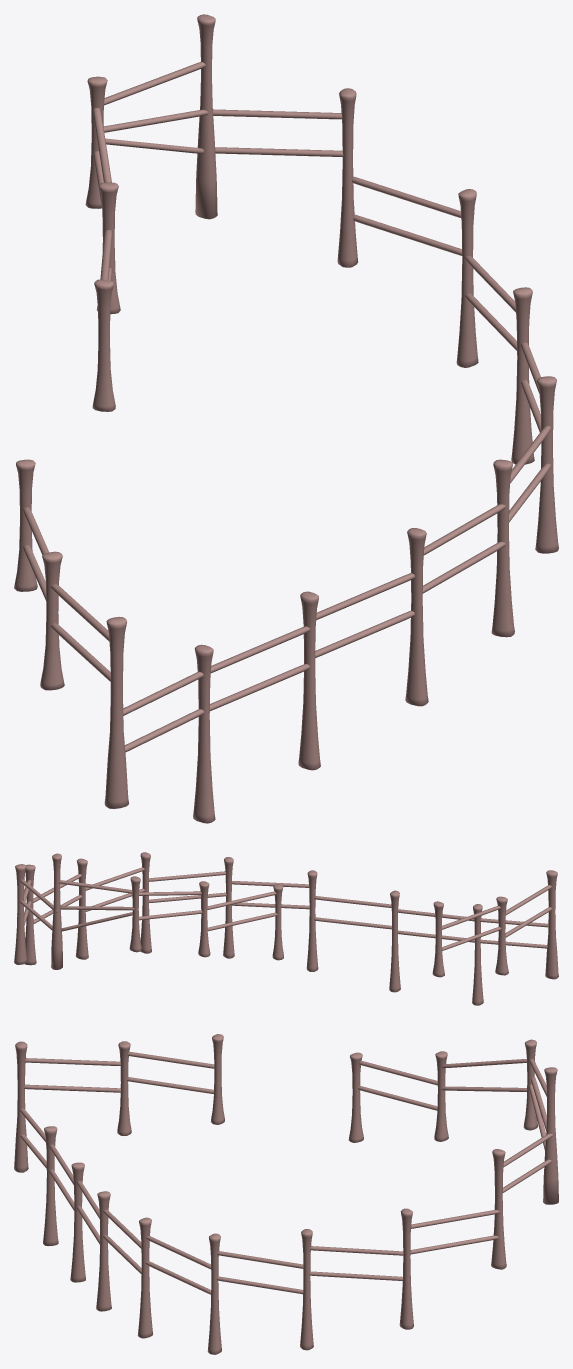
File: Fence.fbx
3 views of the same model, one above another, from view 1: azimuth 30°, elevation 25°; view 2: azimuth 150°, elevation 25°; view 3: azimuth 270°, elevation 25° (orthographic). The views are drawn at different scales.
Visible parts, largest first — view 1: Cube.013; view 2: Cube.013; view 3: Cube.013.
Part boxes in pixels (<box>): Cube.013: <box>14,14,558,823</box>; Cube.013: <box>14,852,558,1005</box>; Cube.013: <box>14,1034,558,1354</box>.
Bounding box in the file's own units: 1.62 × 1.04 × 1.72.
